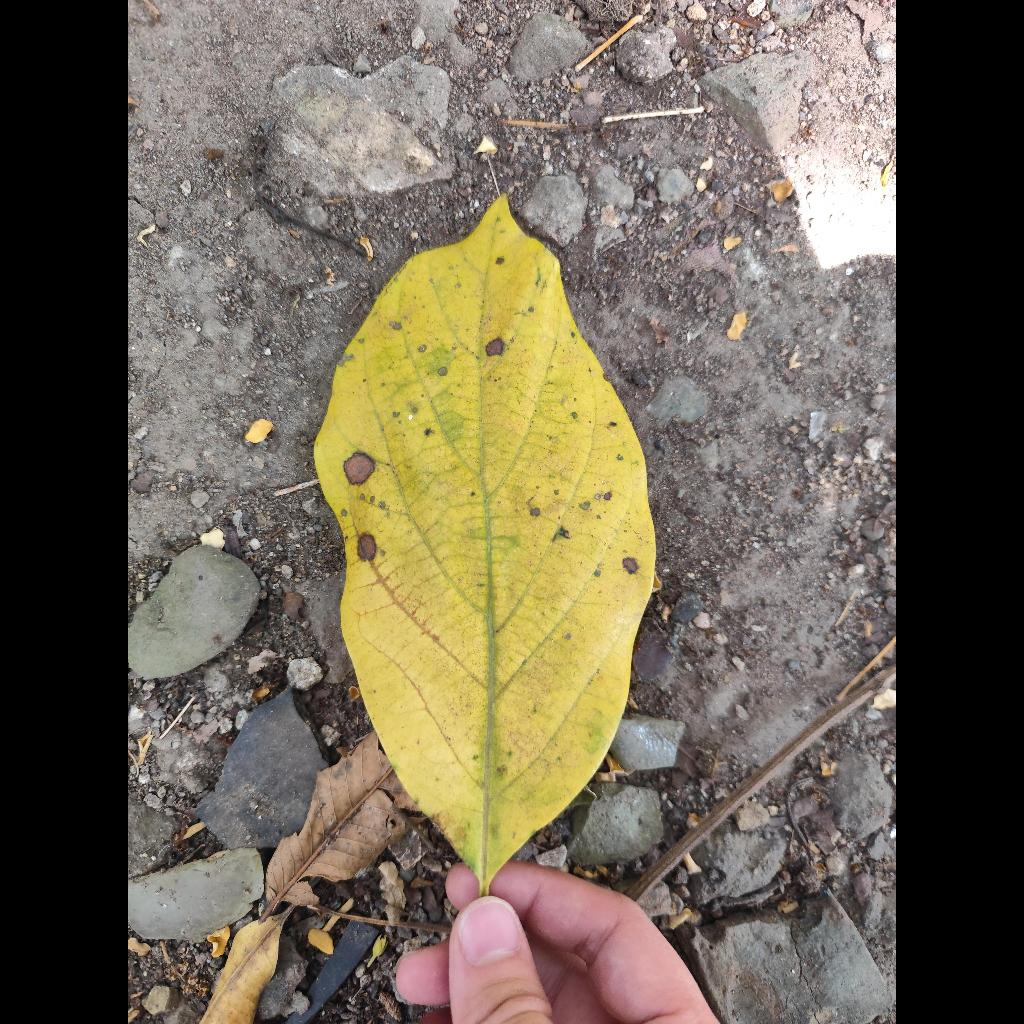nutrient_deficiency: (315, 197, 655, 891)
